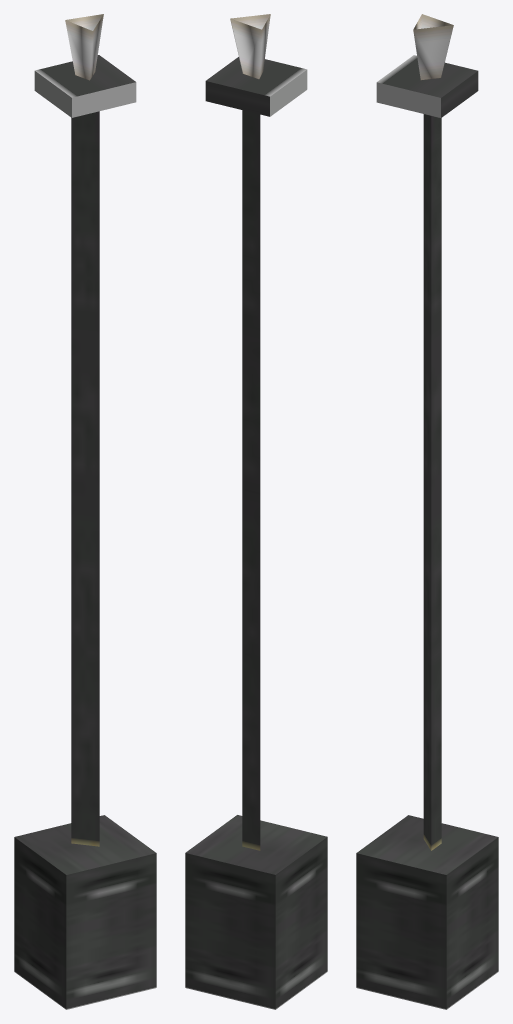
The model's file is thm_nboo_thed_imprv_streetlamp_s01_l3.fbx.
The picture shows the model from 3 angles, left to right: view 1: azimuth 30°, elevation 25°; view 2: azimuth 150°, elevation 25°; view 3: azimuth 330°, elevation 25°; orthographic projection.
Parts seen in each view (by area): view 1: mesh_node; view 2: mesh_node; view 3: mesh_node.
Boxes of the visible parts, box(x1,y1,x2,y2) form: mesh_node: box(14, 14, 156, 1009); mesh_node: box(185, 14, 327, 1009); mesh_node: box(356, 14, 498, 1009).
Bounding box in the file's own units: 0.7 × 7.1 × 0.7.
